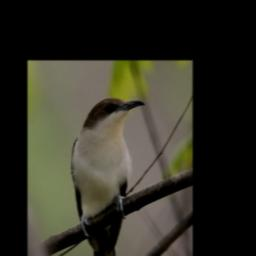Cuckoo: (71, 97, 146, 256)
